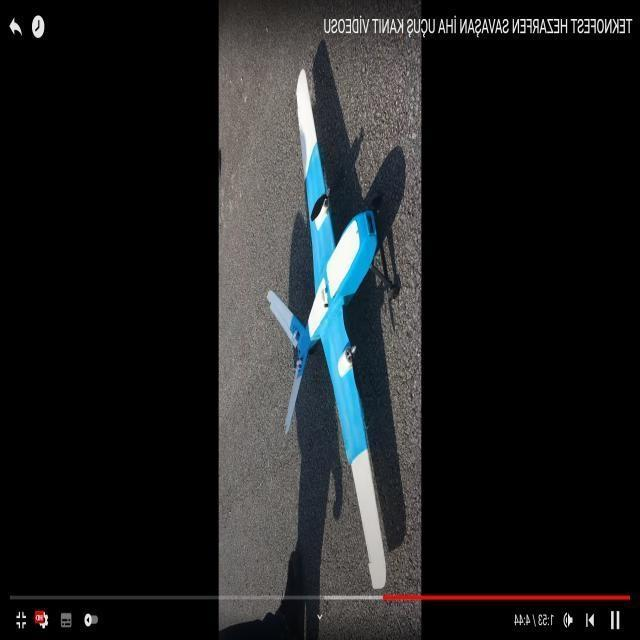Airplane: (266, 68, 406, 592)
